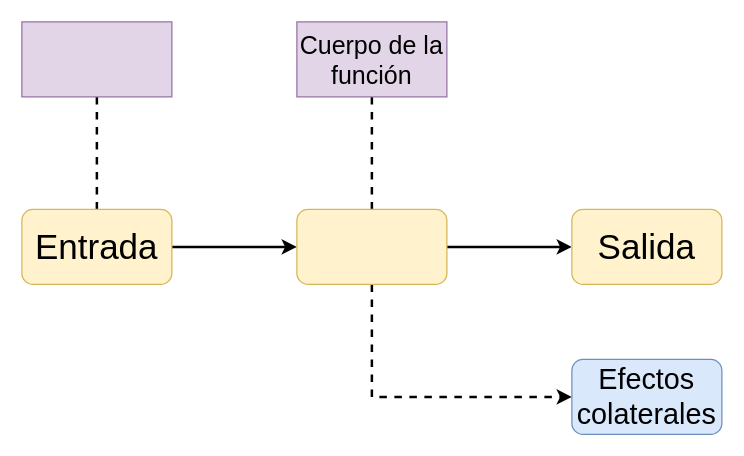
Some shapes in this 744 by 456 pixel diagram are drawn without their labels. Each missing label, with the centre of its shape:
"Parámetros de la función" goes at pixel 96 59.
"Proceso" goes at pixel 371 246.
